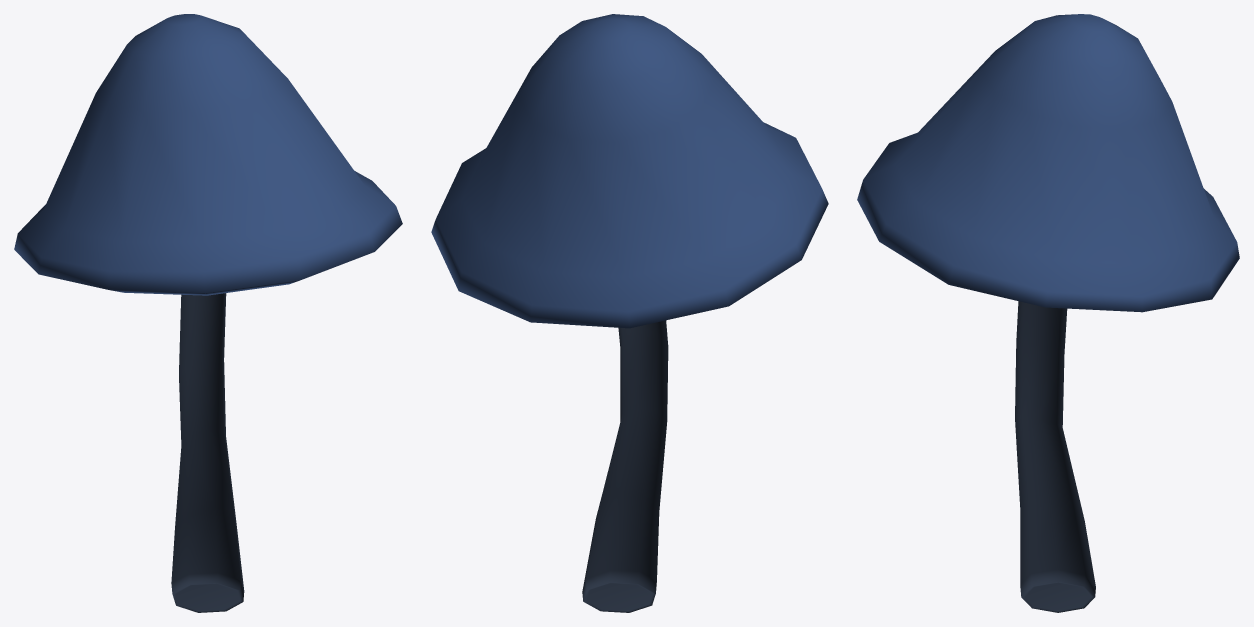
File: Mushroom_02_Big.fbx
The picture shows the model from 3 angles, left to right: view 1: azimuth 30°, elevation 25°; view 2: azimuth 150°, elevation 25°; view 3: azimuth 270°, elevation 25°; orthographic projection. The views are drawn at different scales.
Parts seen in each view (by area): view 1: Mushroom_02_Big; view 2: Mushroom_02_Big; view 3: Mushroom_02_Big.
Part boxes in pixels (bbox=[...]): Mushroom_02_Big: bbox=[14, 14, 402, 612]; Mushroom_02_Big: bbox=[431, 14, 828, 612]; Mushroom_02_Big: bbox=[857, 14, 1239, 612].
Size of the model in its own units: 0.131 by 0.212 by 0.1281.
